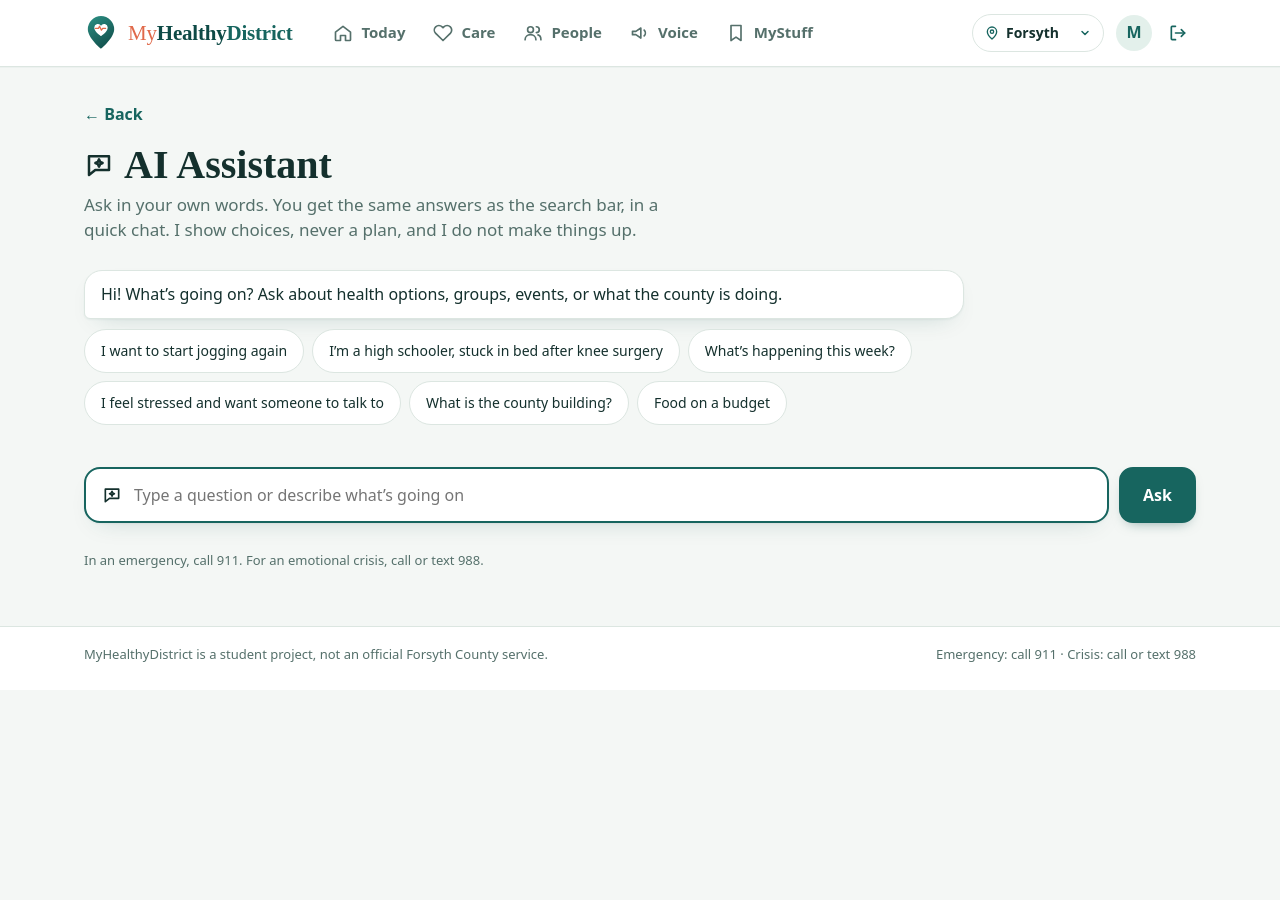
Test case: AI Assistant answers › says plainly when nothing matches
The image size is (1280, 900).
Type "zzzz" into the field named "Ask the AI Assistant".
click(616, 496); type("zzzz")  # box [132, 474, 1099, 518]
Then press Enter
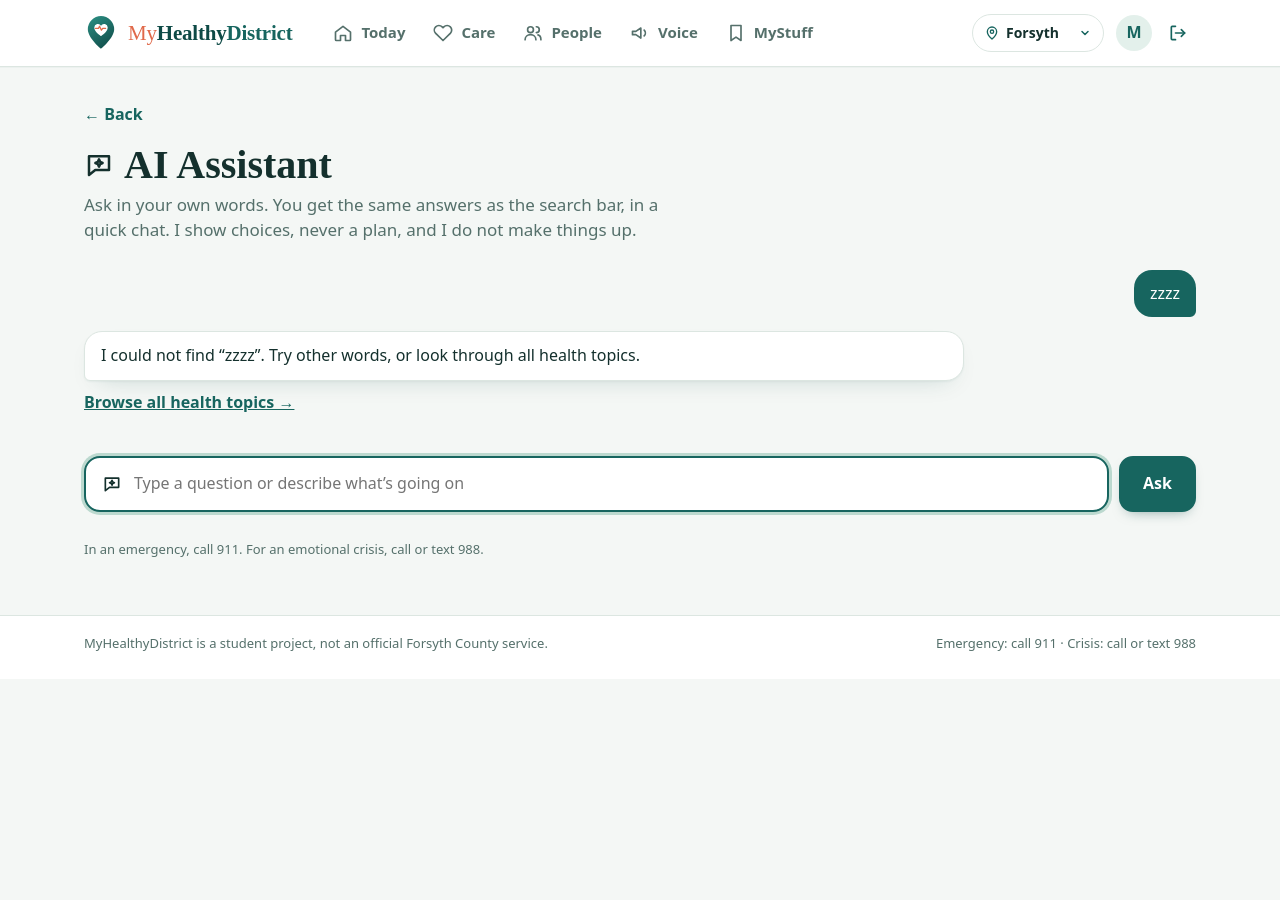
Result: the text "could not find “zzzz”" is shown at [101, 344, 640, 366]
